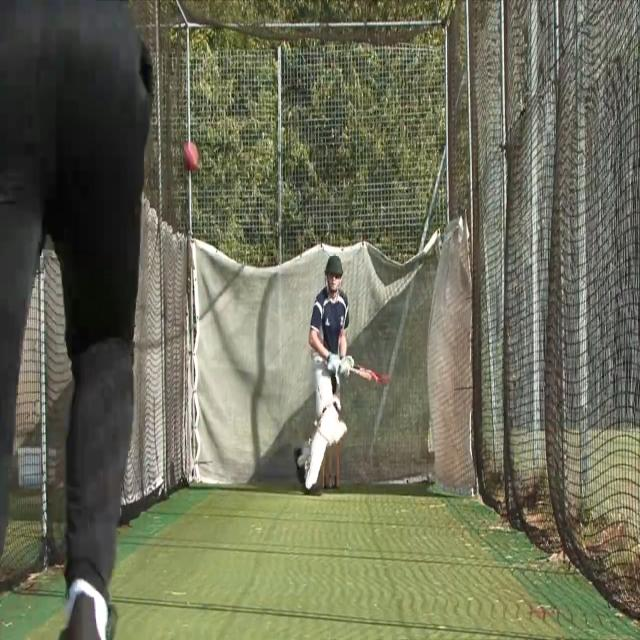batsman: (292, 252, 392, 499)
